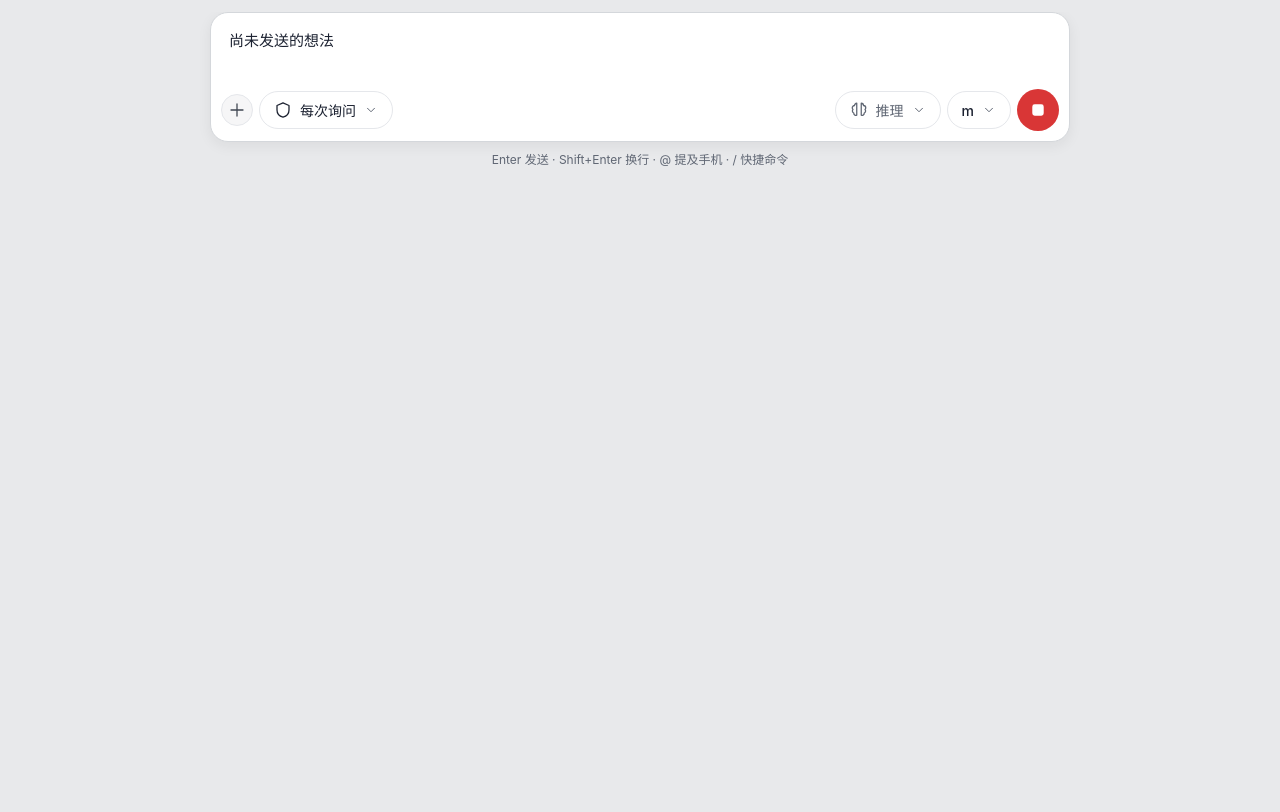
Test: D28 AC-3: creation errors render in the side window and preserve the main task
Click the button named "添加": point(237, 110) [221, 94, 253, 126]
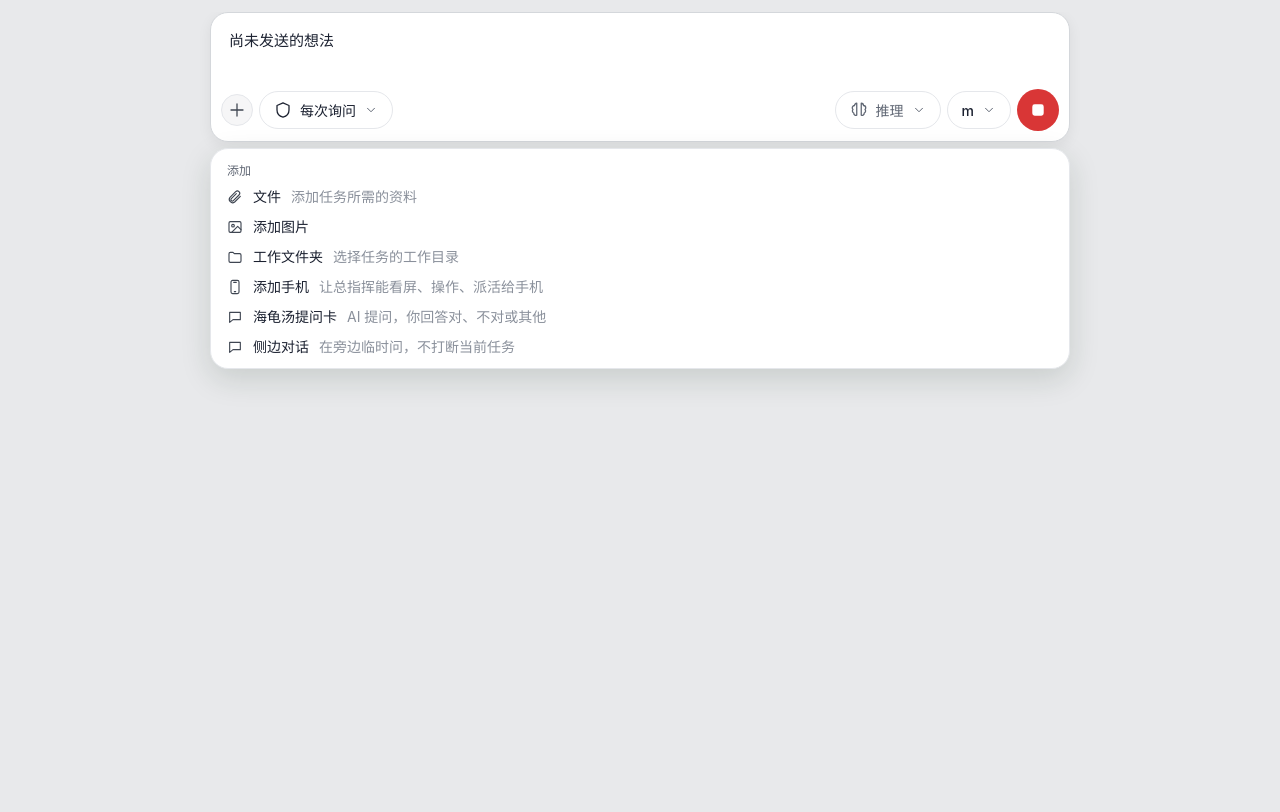
Click the menu item with class "menu__item" showing "侧边对话 在旁边临时问，不打断当前任务": point(281, 347) [217, 332, 1063, 362]
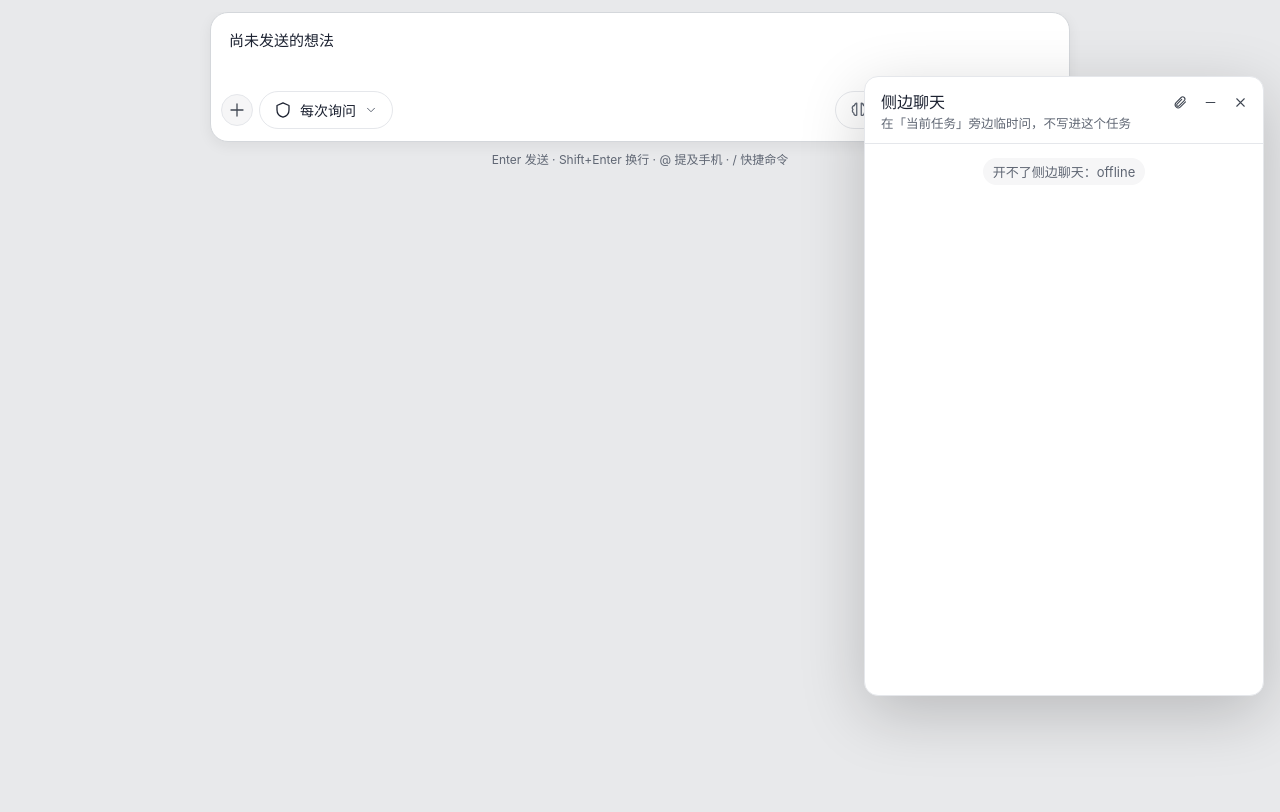
Expected: the element with class "side-chat" shows "offline", [1097, 164, 1135, 180]
